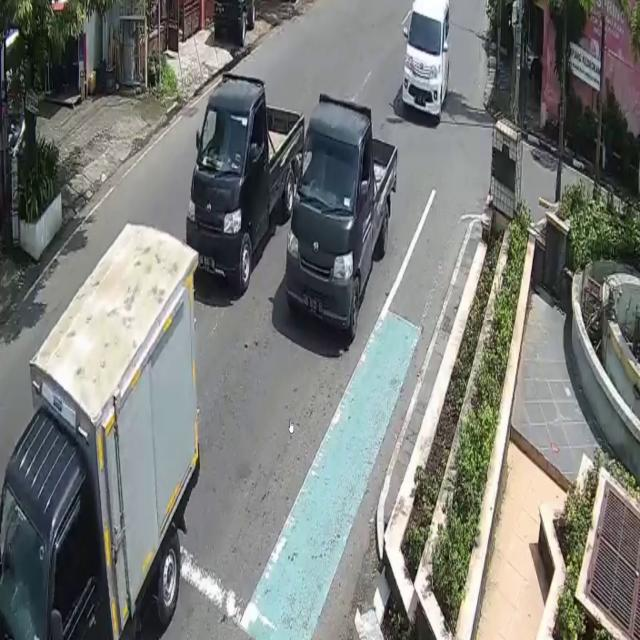car: (286, 95, 398, 338), (187, 75, 304, 292), (401, 2, 450, 123)
truck: (1, 224, 200, 640)
